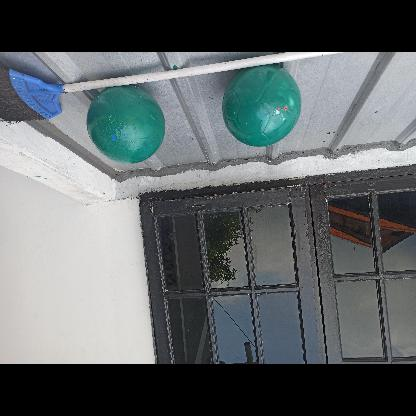green_ball: (222, 66, 304, 146), (88, 87, 166, 165)
